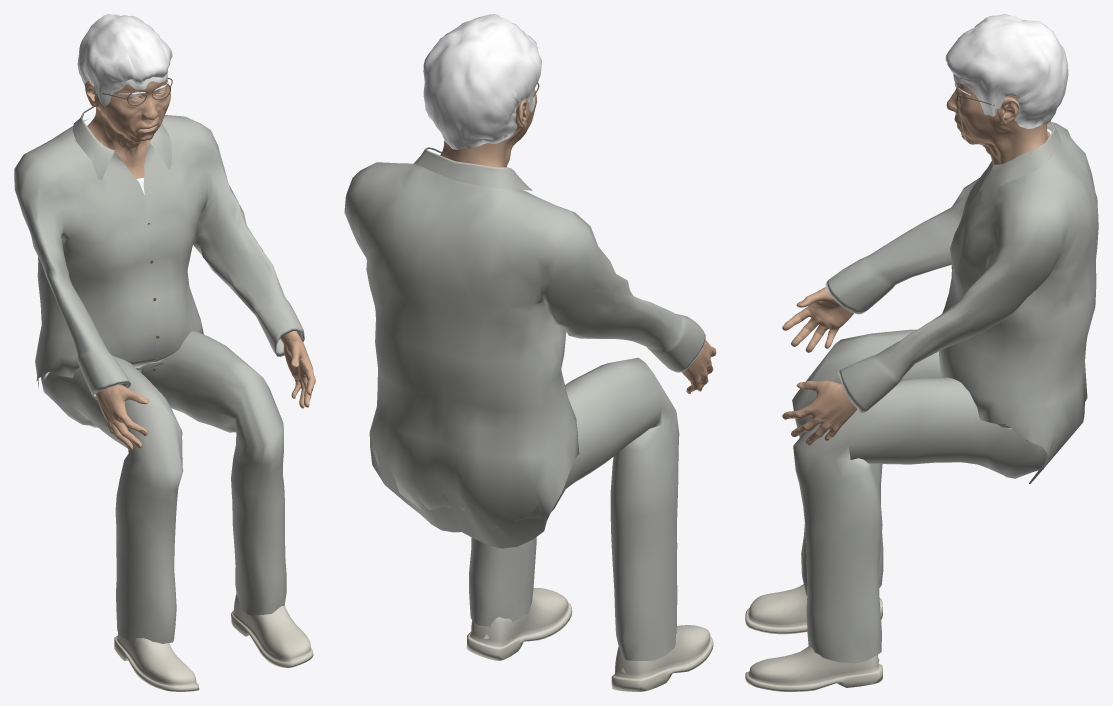
Rendered from elder-man-seated.glb.
The picture shows the model from 3 angles, left to right: view 1: azimuth 30°, elevation 25°; view 2: azimuth 150°, elevation 25°; view 3: azimuth 270°, elevation 25°; orthographic projection. The views are drawn at different scales.
Parts seen in each view (by area): view 1: CC0 fitted clothes/male_casualsuit03/male_casualsuit03, smooth human anatomy with per-corner UV seams, CC0 fitted clothes/shoes04/shoes04, CC0 fitted hair/short02/short02; view 2: CC0 fitted clothes/male_casualsuit03/male_casualsuit03, CC0 fitted hair/short02/short02, CC0 fitted clothes/shoes04/shoes04, smooth human anatomy with per-corner UV seams; view 3: CC0 fitted clothes/male_casualsuit03/male_casualsuit03, CC0 fitted hair/short02/short02, smooth human anatomy with per-corner UV seams, CC0 fitted clothes/shoes04/shoes04.
Boxes of the visible parts, x1=… form: CC0 fitted clothes/male_casualsuit03/male_casualsuit03: x1=14, y1=106, x2=304, y2=643; smooth human anatomy with per-corner UV seams: x1=74, y1=78, x2=315, y2=450; CC0 fitted clothes/shoes04/shoes04: x1=114, y1=593, x2=313, y2=691; CC0 fitted hair/short02/short02: x1=77, y1=14, x2=172, y2=110; CC0 fitted clothes/male_casualsuit03/male_casualsuit03: x1=344, y1=147, x2=705, y2=660; CC0 fitted hair/short02/short02: x1=423, y1=14, x2=541, y2=149; CC0 fitted clothes/shoes04/shoes04: x1=466, y1=588, x2=713, y2=691; smooth human anatomy with per-corner UV seams: x1=440, y1=88, x2=716, y2=393; CC0 fitted clothes/male_casualsuit03/male_casualsuit03: x1=792, y1=121, x2=1098, y2=663; CC0 fitted hair/short02/short02: x1=945, y1=14, x2=1068, y2=128; smooth human anatomy with per-corner UV seams: x1=782, y1=78, x2=1050, y2=445; CC0 fitted clothes/shoes04/shoes04: x1=745, y1=584, x2=882, y2=691.
Bounding box in the file's own units: 0.5258 × 1.36 × 0.6859.
